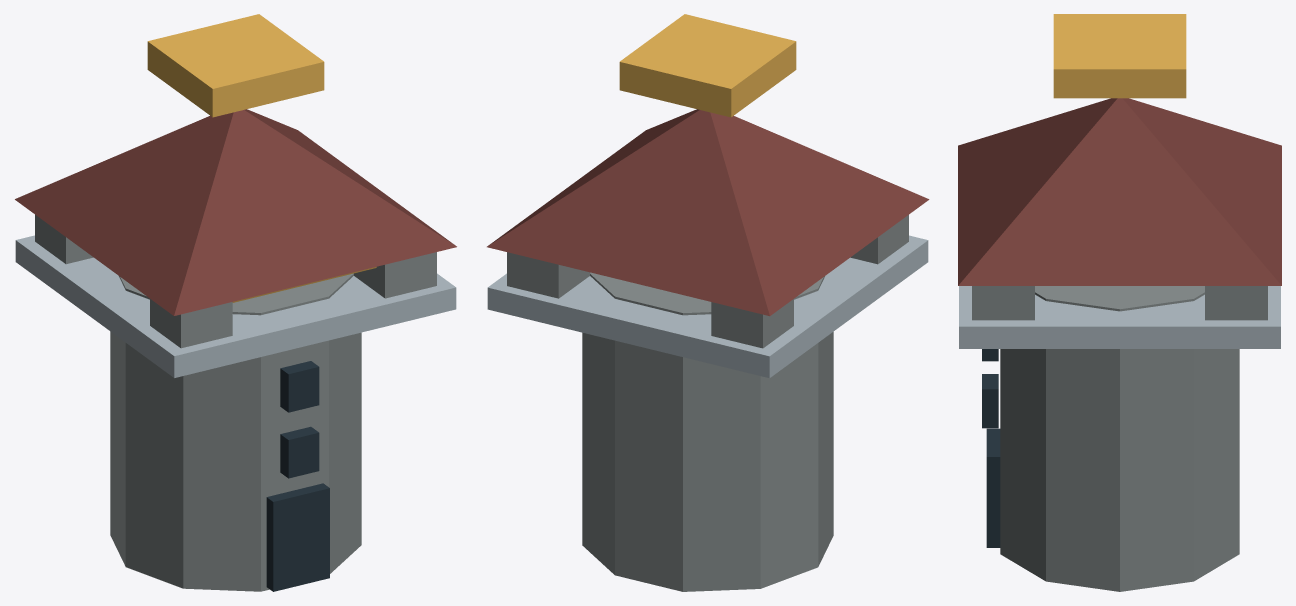
File: tower.obj
3 views of the same model, side by side, from view 1: azimuth 30°, elevation 25°; view 2: azimuth 150°, elevation 25°; view 3: azimuth 270°, elevation 25° (orthographic).
Visible parts, largest first — view 1: tower; view 2: tower; view 3: tower.
Boxes of the visible parts, x1=… form: tower: x1=15, y1=14, x2=456, y2=591; tower: x1=487, y1=14, x2=929, y2=591; tower: x1=958, y1=14, x2=1281, y2=591.
Bounding box in the file's own units: 2.08 × 3.43 × 2.03.
